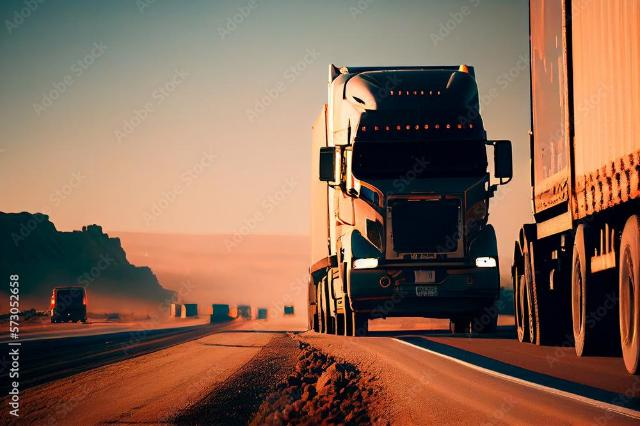truck: (273, 51, 511, 343)
